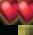heart: (0, 0, 18, 25), (18, 0, 33, 25)
